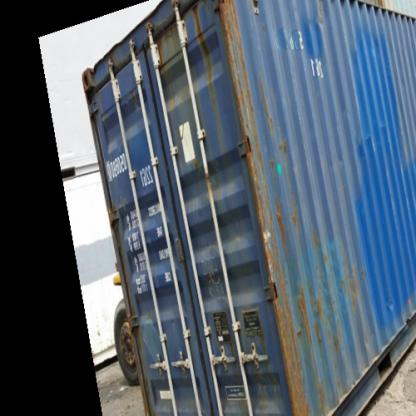Damage: (257, 212, 315, 405), (229, 44, 279, 214), (316, 251, 376, 360), (272, 186, 367, 236), (256, 131, 314, 183), (220, 3, 252, 68)
